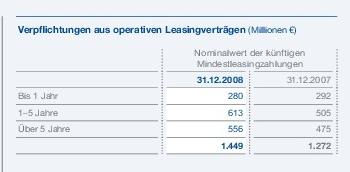table: (0, 0, 350, 172)
